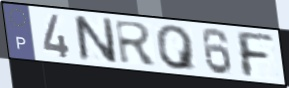4: (41, 12, 72, 59)
6: (200, 27, 234, 77)
F: (232, 29, 277, 80)
N: (71, 14, 120, 65)
Q: (154, 24, 200, 72)
R: (112, 19, 160, 67)
